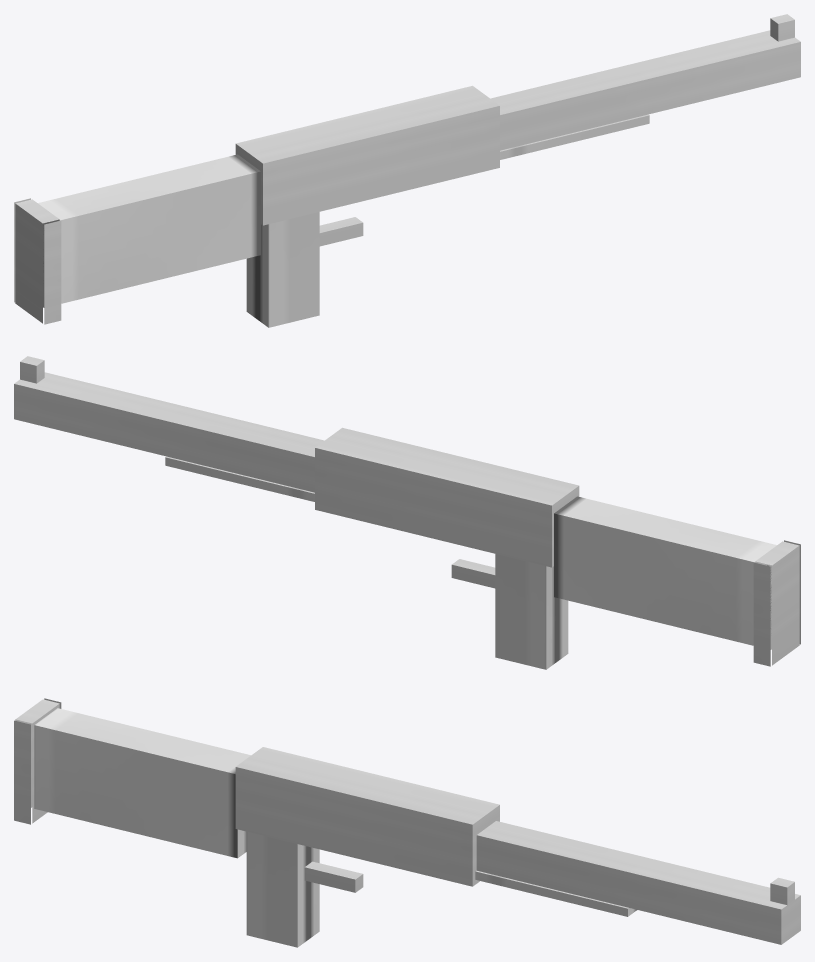
The model's file is shotgun.obj.
3 renders of one model, top to bottom at view 1: azimuth 30°, elevation 25°; view 2: azimuth 150°, elevation 25°; view 3: azimuth 330°, elevation 25°, orthographic.
Parts seen in each view (by area): view 1: shotgun; view 2: shotgun; view 3: shotgun.
Part boxes in pixels (box(x1,y1,x2,y2)): shotgun: box(14, 14, 800, 327); shotgun: box(14, 356, 800, 669); shotgun: box(14, 698, 800, 947).
Bounding box in the file's own units: 0.9 × 0.195 × 0.062.
